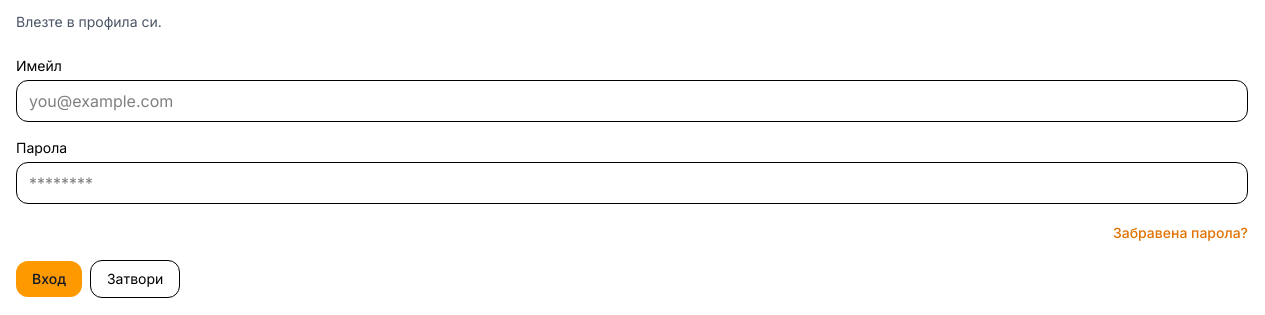
AuthForm › Login Mode › should disable submit button while submitting
The width and height of the screenshot is (1265, 315).
Type "test@example.com" into the field labelled "Имейл" at (632, 101), box [16, 80, 1248, 122]
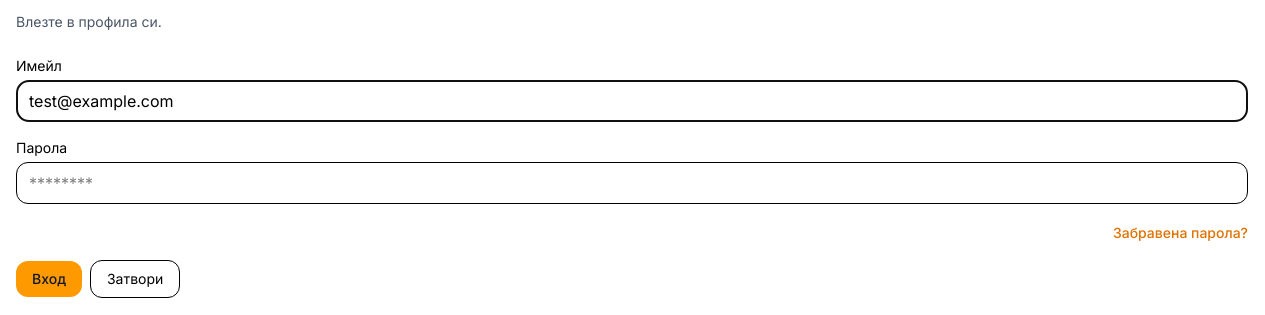
Type "password123" into the password field labelled "Парола" at (632, 183), box [16, 162, 1248, 204]
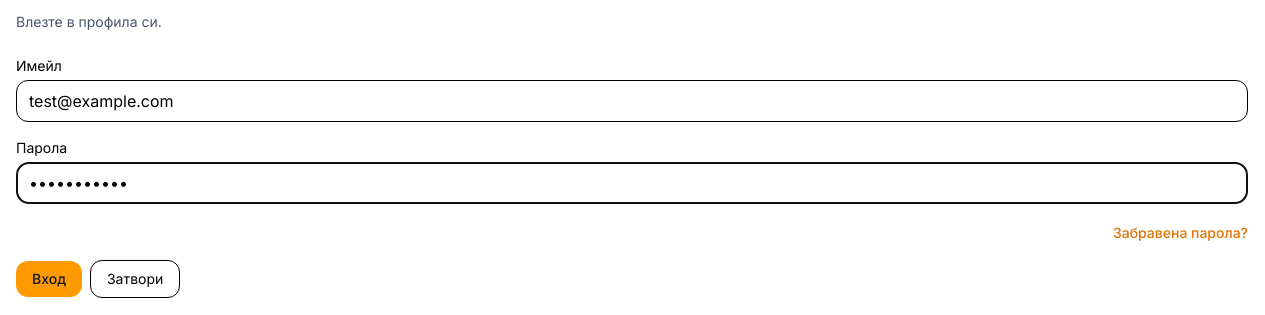
Click the button "Вход" at (49, 279), box [16, 261, 82, 297]
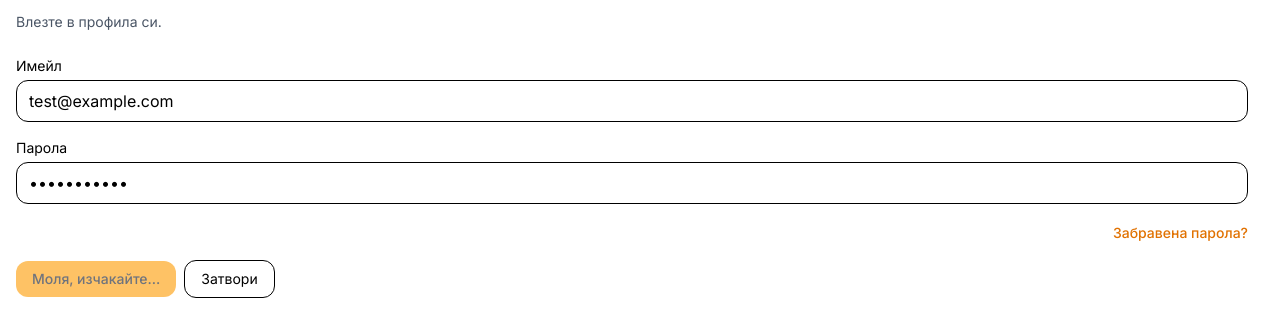
Now the button named "вход" is disabled, box [16, 261, 176, 297]
